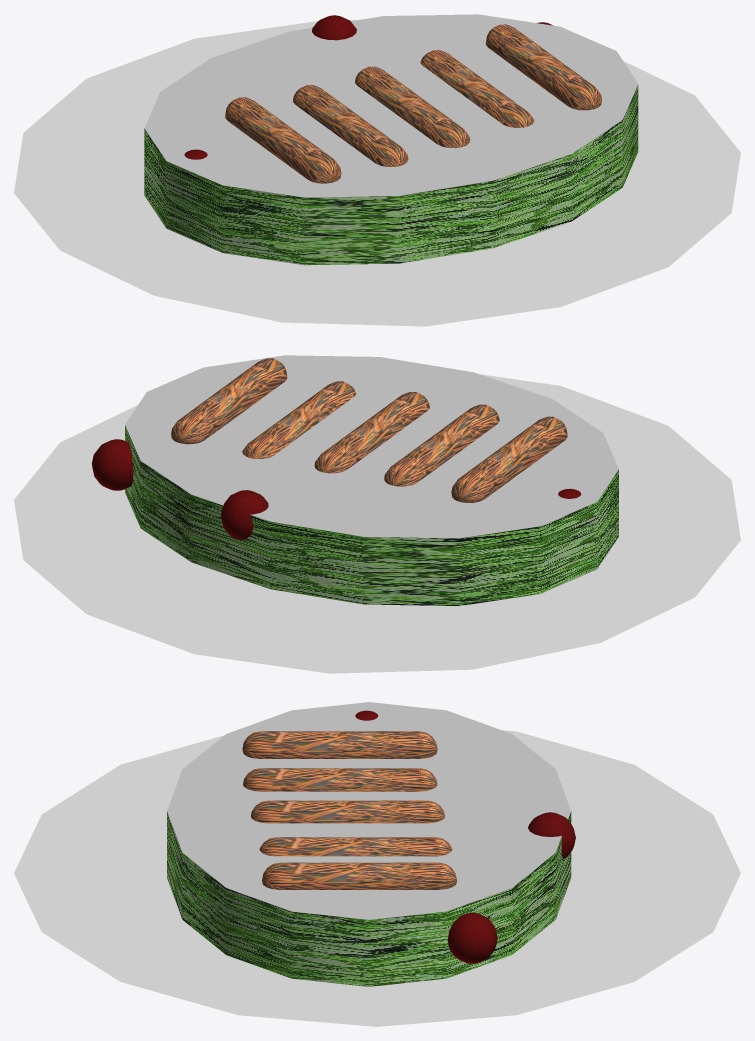
File: chicken salad.dae
3 renders of one model, top to bottom at view 1: azimuth 30°, elevation 25°; view 2: azimuth 150°, elevation 25°; view 3: azimuth 270°, elevation 25°, orthographic.
Visible parts, largest first — view 1: 円の掃引体, 円, ルートパート, 球; view 2: 円の掃引体, 円, ルートパート, 球 (×2); view 3: 円, 円の掃引体, ルートパート, 球 (×2).
Part boxes in pixels (left/top/right/bottom): 円の掃引体: left=144, top=14, right=638, bottom=265; 円: left=14, top=20, right=740, bottom=326; ルートパート: left=225, top=24, right=601, bottom=183; 球: left=312, top=15, right=356, bottom=40; 円の掃引体: left=125, top=355, right=618, bottom=606; 円: left=14, top=374, right=740, bottom=673; ルートパート: left=171, top=358, right=567, bottom=502; 球 (×2): left=91, top=439, right=268, bottom=539; 円: left=14, top=730, right=740, bottom=1026; 円の掃引体: left=167, top=702, right=571, bottom=986; ルートパート: left=242, top=731, right=456, bottom=889; 球 (×2): left=447, top=812, right=575, bottom=963.
Size of the model in its own units: 201 by 31.33 by 201.
10 materials, 9 textured.
